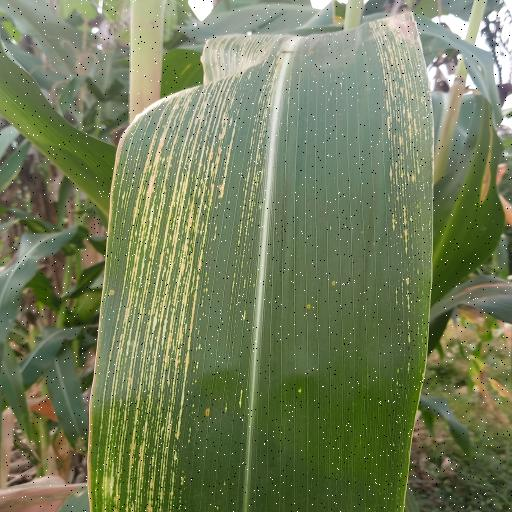Corn_Streak: (78, 14, 435, 512)
